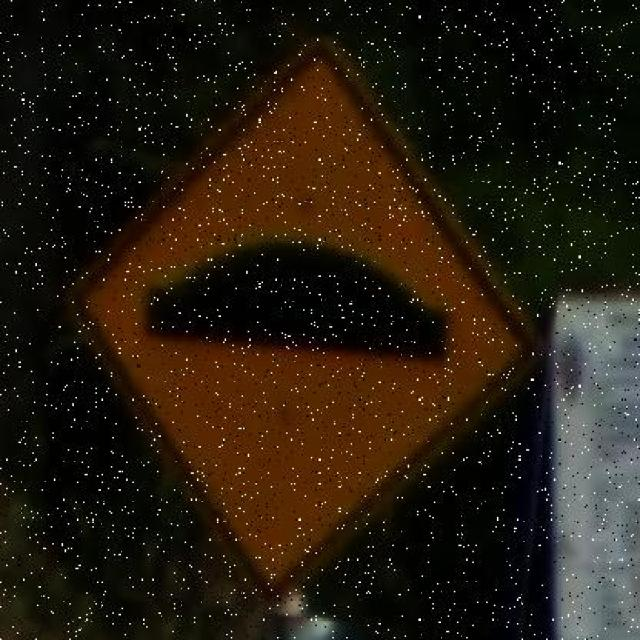Polisi Tidur: (46, 23, 568, 629)
